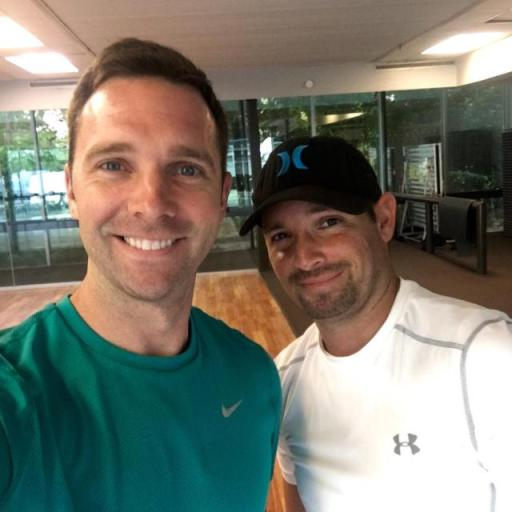Under Armour: (390, 430, 422, 460)
